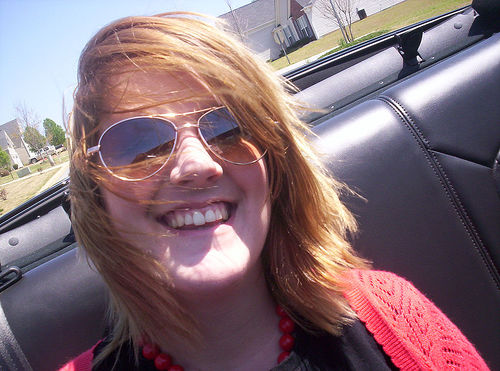without_mask: (69, 47, 315, 316)
